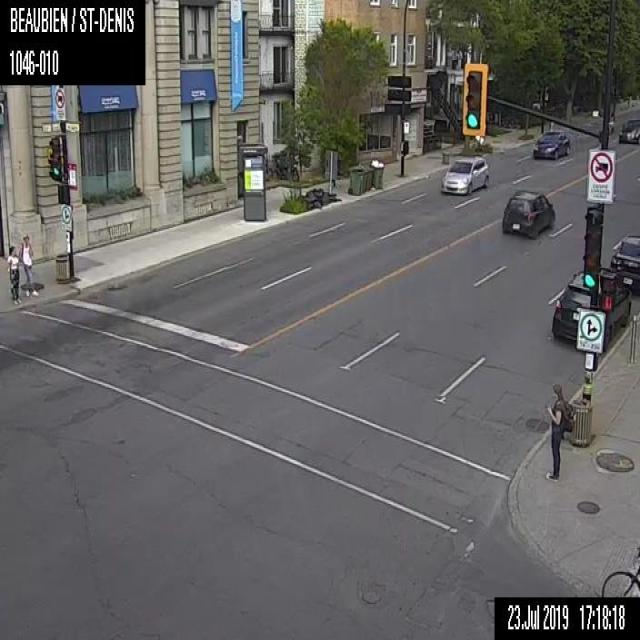pedestrian: (546, 383, 574, 480), (19, 233, 39, 296), (5, 244, 22, 304)
vehicle: (551, 265, 631, 351), (500, 188, 555, 236), (441, 153, 489, 195), (609, 233, 639, 292), (532, 131, 568, 157), (618, 117, 639, 143)
